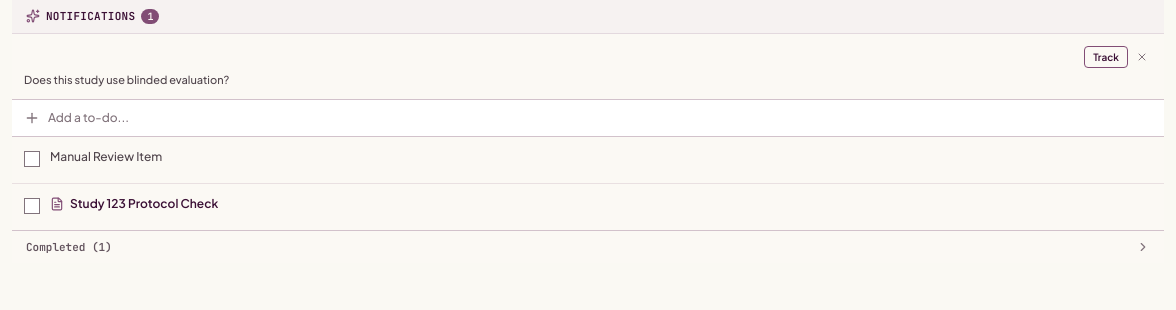
Test: TodosPanel Component › toggles done state when checkbox clicked (moves between Active and Completed)
Find the checkbox for "Manual Review Item"
Click the button named "Mark \"Manual Review Item\" completed" at (32, 159), box [24, 151, 40, 167]
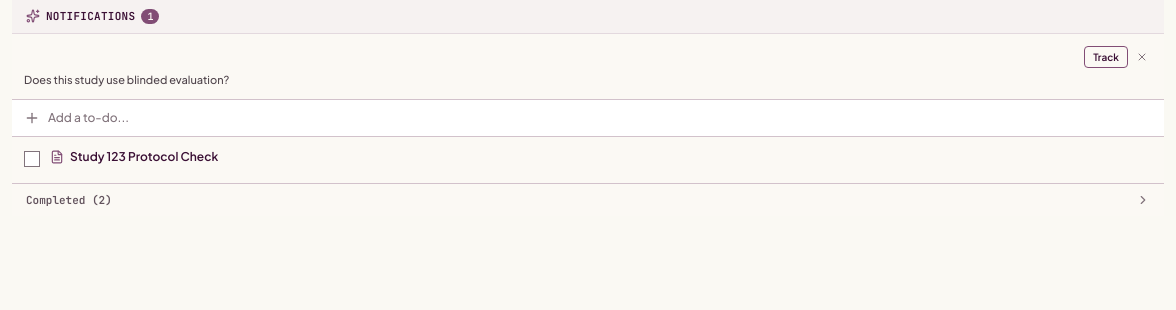
Open completed section to inspect
Click the button "Completed (2)" at (62, 200), box [12, 184, 1164, 216]
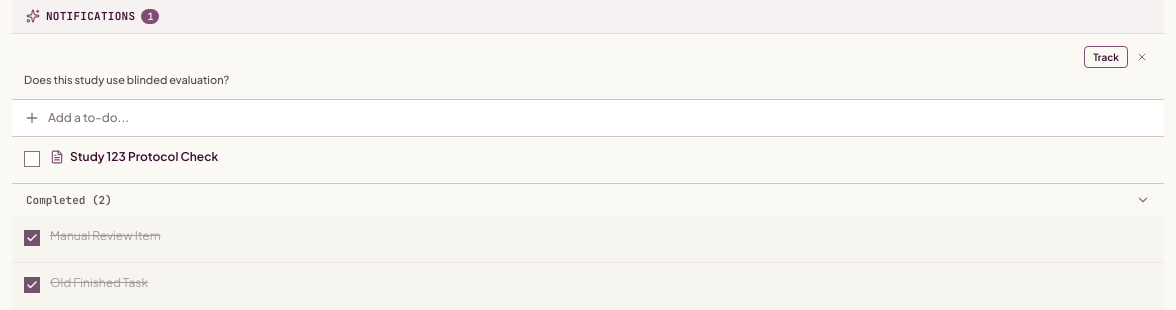
Now the button named "Mark \"Manual Review Item\" uncompleted" is shown, box [24, 230, 40, 246]
